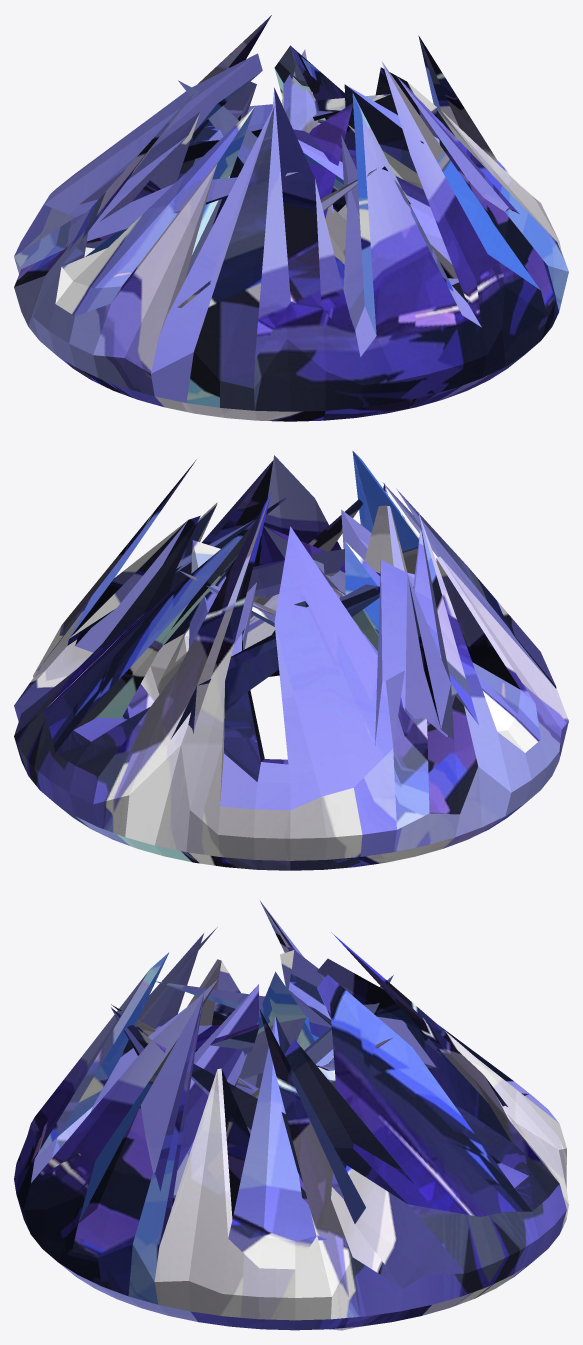
File: crystal.obj
3 views of the same model, one above another, from view 1: azimuth 30°, elevation 25°; view 2: azimuth 150°, elevation 25°; view 3: azimuth 270°, elevation 25° (orthographic).
Parts seen in each view (by area): view 1: Torus; view 2: Torus; view 3: Torus.
Part boxes in pixels (x1,y1,x2,y2): Torus: (14,15,568,421); Torus: (14,451,568,870); Torus: (14,901,568,1330).
Size of the model in its own units: 0.9303 by 0.5638 by 0.9178.
